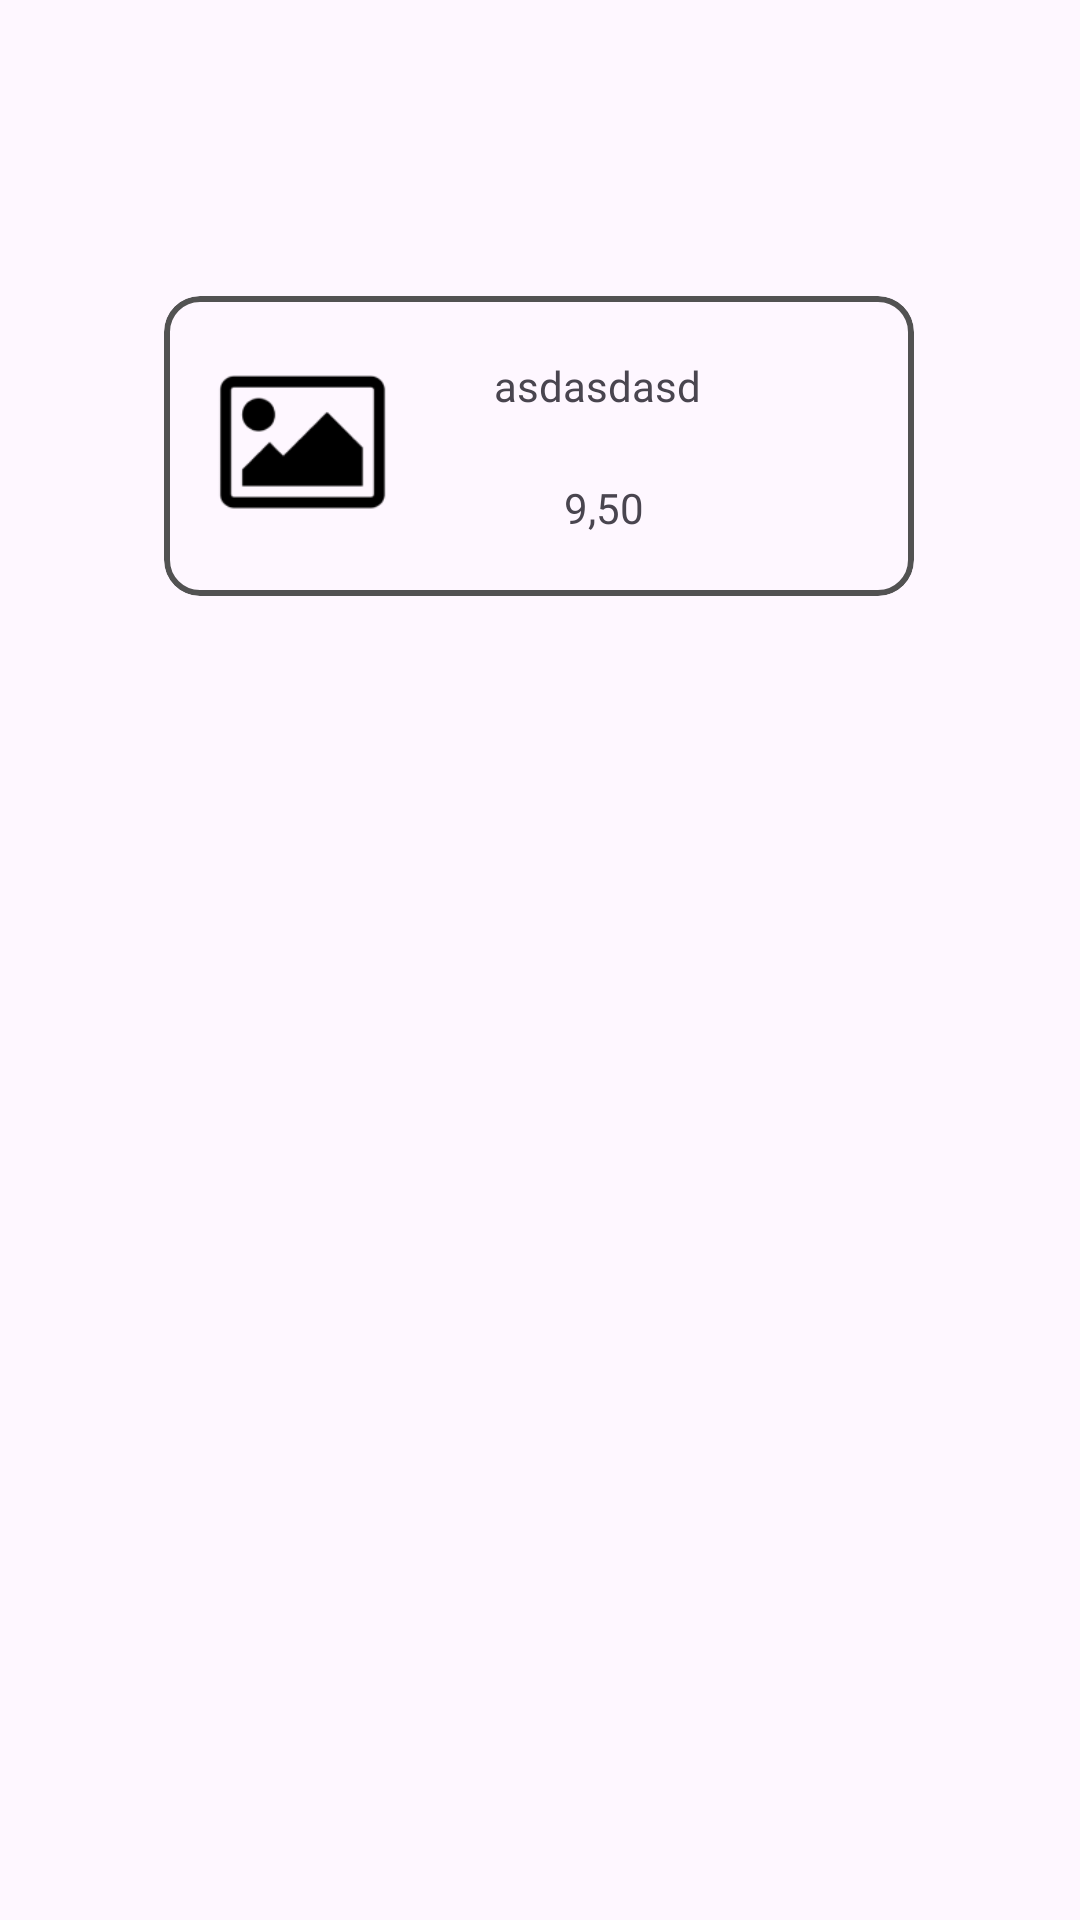

Locate icon controls on the screen. Image size 1080 x 1920, boxes as [x1, y1, x2, y2].
imageplaceholder: [220, 375, 386, 509]
